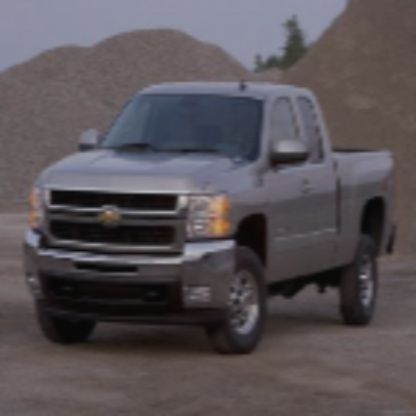Vehicle: (20, 75, 398, 351)
